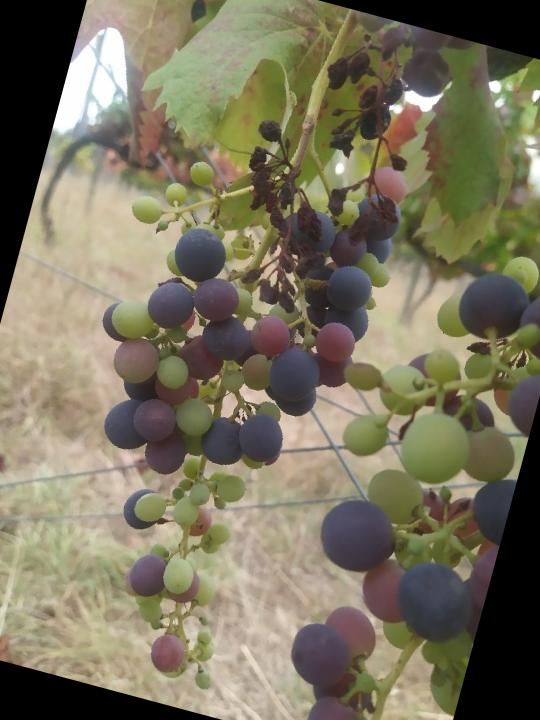grape: (15, 93, 423, 711), (283, 9, 471, 262)
